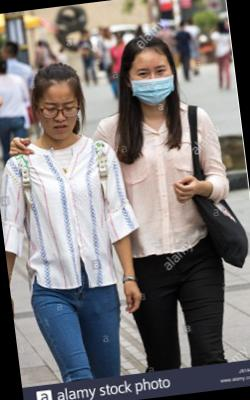with_mask: (128, 61, 179, 108)
without_mask: (35, 95, 83, 143)
